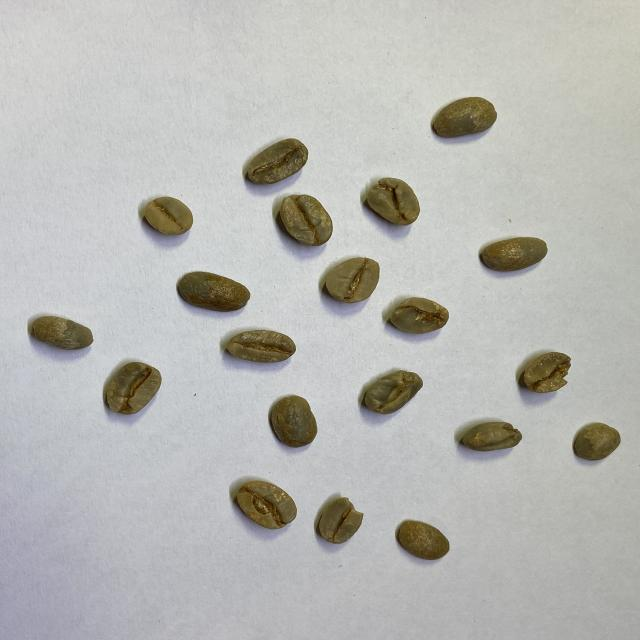bad: (235, 480, 297, 529), (362, 368, 424, 414), (364, 177, 420, 227), (316, 497, 364, 546), (390, 295, 450, 334), (523, 350, 573, 395), (459, 419, 524, 452)
good: (242, 136, 310, 185), (177, 269, 251, 313), (103, 360, 163, 414), (431, 96, 497, 140), (280, 194, 334, 247), (266, 394, 318, 448), (223, 328, 296, 366), (324, 256, 381, 304), (478, 235, 550, 272), (396, 519, 452, 562), (32, 314, 94, 352), (143, 196, 194, 237), (573, 422, 622, 463)
